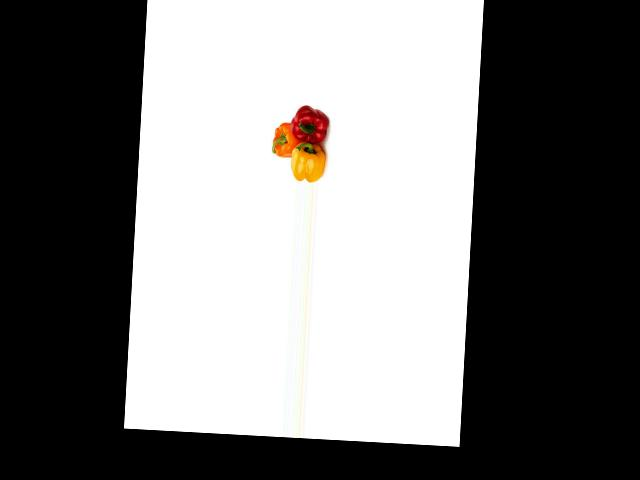bell_pepper: (289, 143, 329, 183)
